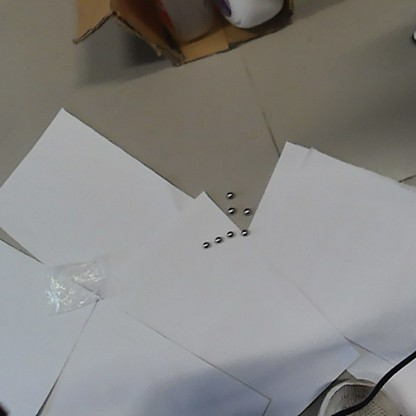ironball: (222, 189, 235, 198), (226, 205, 237, 215), (201, 238, 210, 249), (238, 226, 247, 236), (241, 206, 252, 214), (225, 229, 233, 238), (214, 234, 222, 243)
